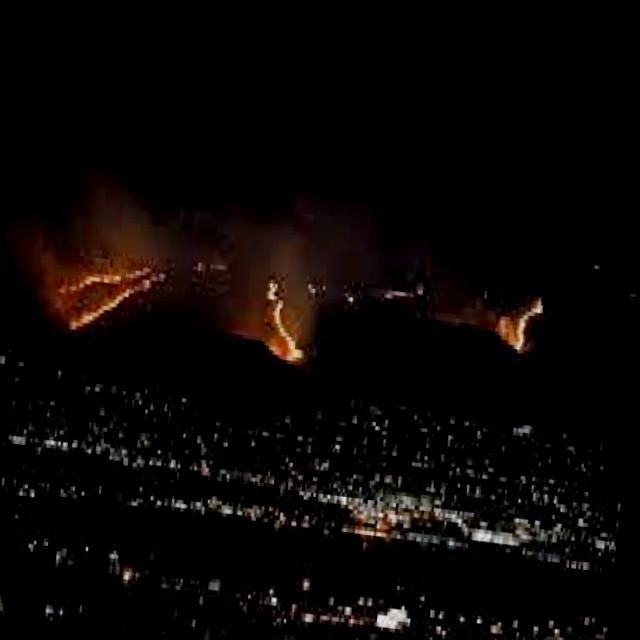fire: (58, 265, 149, 329), (260, 286, 307, 357), (517, 291, 543, 343)
smoke: (26, 150, 492, 366)
